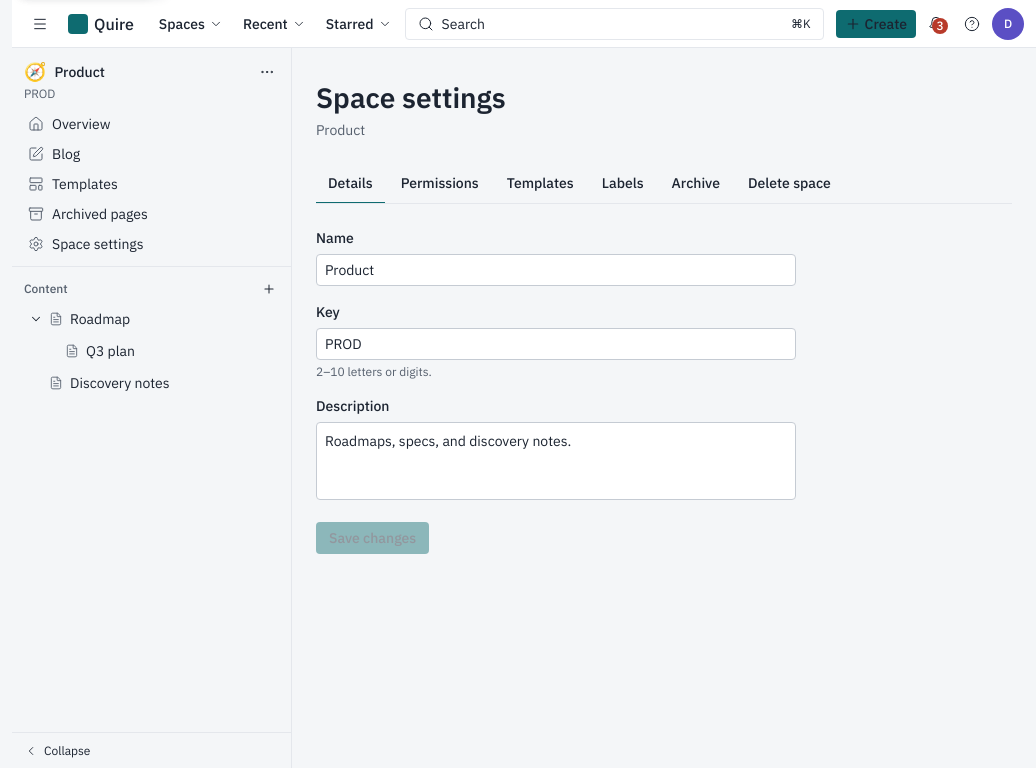
Scenario: space settings (design.md §8.8) › only shows the matrix to space admins
Click the tab "Permissions".
click(440, 184)  # box [389, 164, 491, 204]
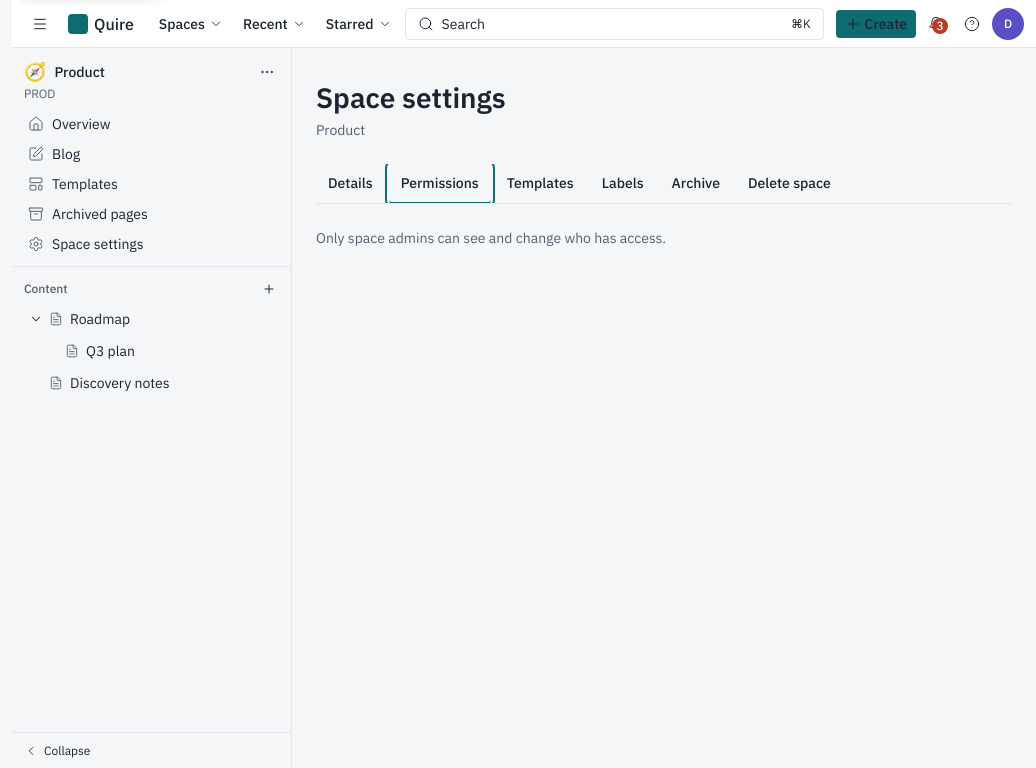
Check: the text "Only space admins can see and change who has access." is shown, box [316, 229, 666, 247]
